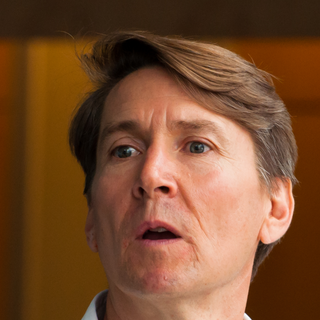eye: (177, 134, 222, 160), (106, 139, 146, 163)
